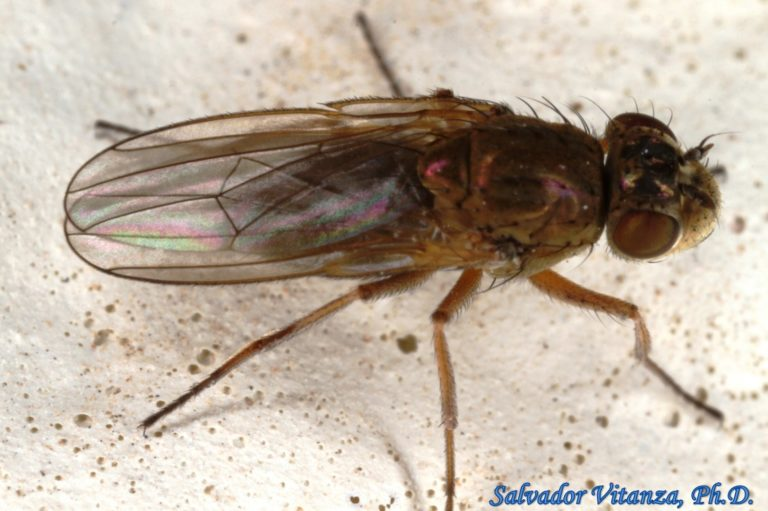Ephydridae: (59, 8, 735, 506)
